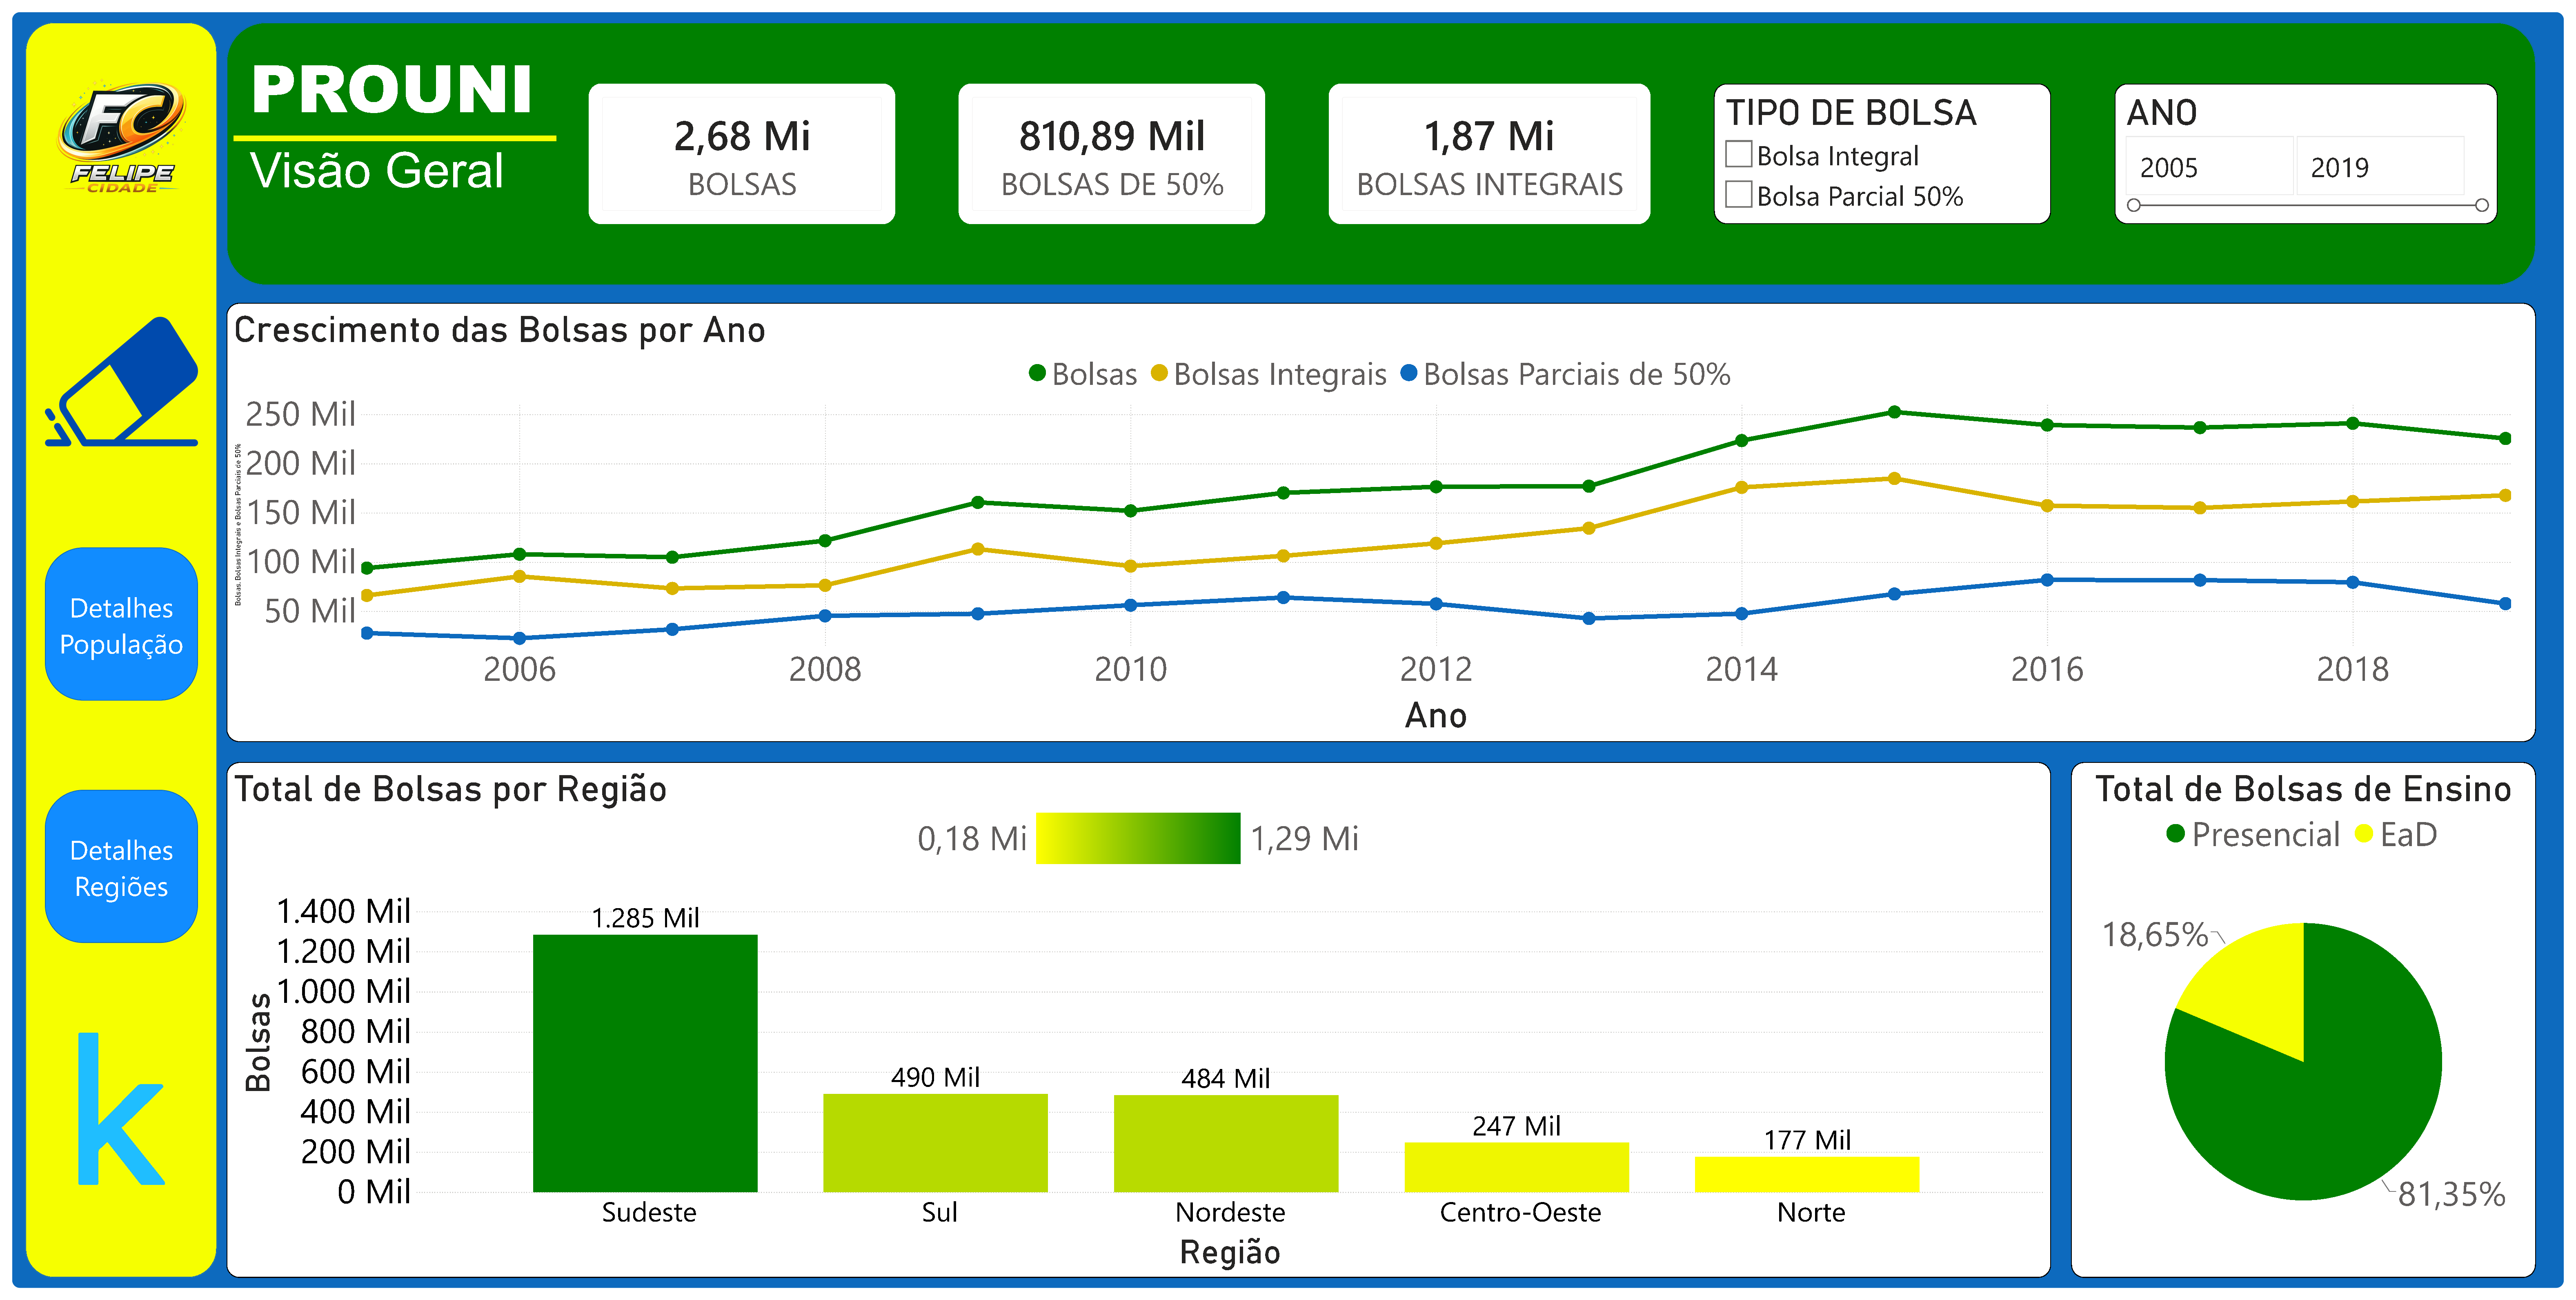

Layout of this report page (visuals, bound fields, positions):
{"tool":"powerbi","page":{"name":"visão geral","canvas":[5000,2500],"ordinal":0},"visuals":[{"type":"group","id":"g1","title":"Elementos de Layout","box":[0,0,5000,2500],"z":0},{"type":"shape","title":"fundo-azul","box":[0,0,5000,2500],"z":0,"group":"g1"},{"type":"cardVisual","title":"Total Bolsas Integrais","fields":{"Data":["medidas.total de bolsas integrais"]},"box":[2580,140,630,275],"z":1000},{"type":"shape","title":"lateral-amarela","box":[25.9,20,375,2459.6],"z":2000,"group":"g1"},{"type":"cardVisual","title":"Total Bolsas 50%","fields":{"Data":["medidas.total de bolsas 50"]},"box":[1855,140,600,275],"z":2000},{"type":"image","title":"Kaggle","box":[28.1,1999.5,372.5,298],"z":2500,"group":"g1"},{"type":"image","title":"logo","box":[26.9,99.3,375,300],"z":3000,"group":"g1"},{"type":"cardVisual","title":"Total Bolsas","fields":{"Data":["medidas.total de bolsas"]},"box":[1130,140,600,275],"z":3000},{"type":"shape","title":"superior-verde","box":[420,20,4525,515],"z":4000,"group":"g1"},{"type":"textbox","title":"Sub-título","box":[460,250,560,145],"z":4000},{"type":"textbox","title":"Título","box":[460,50,625,200],"z":5000},{"type":"lineChart","title":"Crescimento das Bolsas por Ano","fields":{"Category":["prouni_2005_2019_processed.ANO"],"Y":["medidas.total de bolsas","medidas.total de bolsas integrais","medidas.total de bolsas 50"]},"box":[420,570,4525,860],"z":6000},{"type":"columnChart","title":"Total de Bolsas por Região","fields":{"Category":["prouni_2005_2019_processed.REGIÃO"],"Y":["medidas.total de bolsas"]},"box":[420,1470,3575,1010],"z":7000},{"type":"slicer","fields":{"Values":["prouni_2005_2019_processed.TIPO DE BOLSA"]},"box":[3335,140,660,275],"z":8000},{"type":"slicer","fields":{"Values":["prouni_2005_2019_processed.ANO DE CONCESSÃO"]},"box":[4120,140,750,275],"z":9000},{"type":"pieChart","title":"Total de Bolsas  de Ensino","fields":{"Category":["prouni_2005_2019_processed.MODALIDADE DE ENSINO"],"Y":["medidas.total de bolsas"]},"box":[4035,1470,910,1010],"z":10000},{"type":"shape","box":[434,96,632,302],"z":11000},{"type":"image","box":[64.4,574.3,300,300],"z":12000},{"type":"shape","title":"Detalhes População","box":[64.4,1049.4,300,300],"z":13000},{"type":"shape","title":"Detalhes População","box":[64.4,1524.5,300,300],"z":14000}]}

Visuals, with their boxes in screenshot pixels (x1, y1, x2, y2), scaled from the page's 5000x2500 canvas onto the 2576x1300 screenshot:
"Elementos de Layout" group: [x1=0, y1=0, x2=2576, y2=1300]
"fundo-azul" shape: [x1=0, y1=0, x2=2576, y2=1300]
"Total Bolsas Integrais" cardVisual: [x1=1329, y1=73, x2=1654, y2=216]
"lateral-amarela" shape: [x1=13, y1=10, x2=207, y2=1289]
"Total Bolsas 50%" cardVisual: [x1=956, y1=73, x2=1265, y2=216]
"Kaggle" image: [x1=14, y1=1040, x2=207, y2=1195]
"logo" image: [x1=14, y1=52, x2=207, y2=208]
"Total Bolsas" cardVisual: [x1=582, y1=73, x2=891, y2=216]
"superior-verde" shape: [x1=216, y1=10, x2=2548, y2=278]
"Sub-título" textbox: [x1=237, y1=130, x2=525, y2=205]
"Título" textbox: [x1=237, y1=26, x2=559, y2=130]
"Crescimento das Bolsas por Ano" lineChart: [x1=216, y1=296, x2=2548, y2=744]
"Total de Bolsas por Região" columnChart: [x1=216, y1=764, x2=2058, y2=1290]
slicer - prouni_2005_2019_processed.TIPO DE BOLSA: [x1=1718, y1=73, x2=2058, y2=216]
slicer - prouni_2005_2019_processed.ANO DE CONCESSÃO: [x1=2122, y1=73, x2=2509, y2=216]
"Total de Bolsas  de Ensino" pieChart: [x1=2079, y1=764, x2=2548, y2=1290]
shape: [x1=224, y1=50, x2=549, y2=207]
image: [x1=33, y1=299, x2=188, y2=455]
"Detalhes População" shape: [x1=33, y1=546, x2=188, y2=702]
"Detalhes População" shape: [x1=33, y1=793, x2=188, y2=949]
